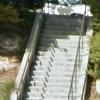stairs: (21, 13, 83, 100)
